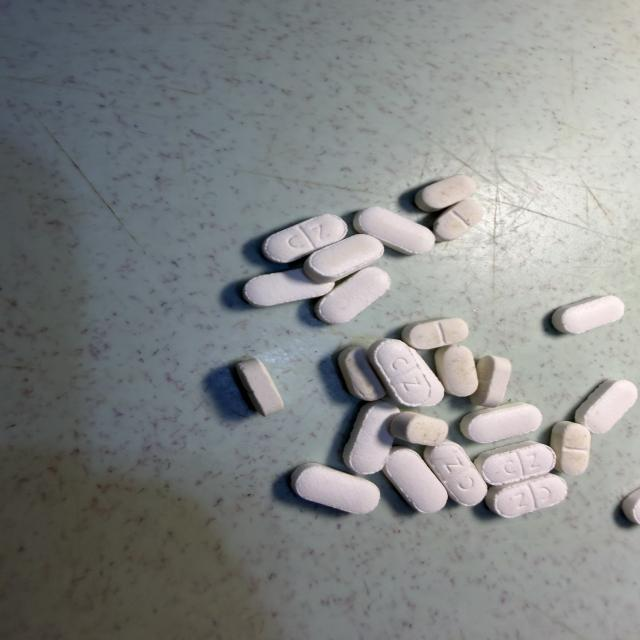pill: (368, 339, 444, 406), (291, 463, 379, 513), (383, 447, 447, 513), (315, 267, 390, 323), (424, 440, 487, 506), (263, 214, 347, 262), (344, 401, 399, 474), (304, 234, 384, 282), (354, 207, 435, 254), (475, 441, 555, 485), (486, 474, 567, 517), (243, 269, 334, 307), (575, 380, 637, 433), (461, 403, 542, 443), (237, 359, 284, 416), (552, 296, 624, 333), (338, 347, 385, 401), (415, 175, 476, 212), (435, 345, 478, 396), (551, 421, 591, 475), (469, 356, 511, 407), (434, 200, 484, 241), (402, 318, 468, 349), (390, 411, 448, 445), (622, 489, 639, 523)
